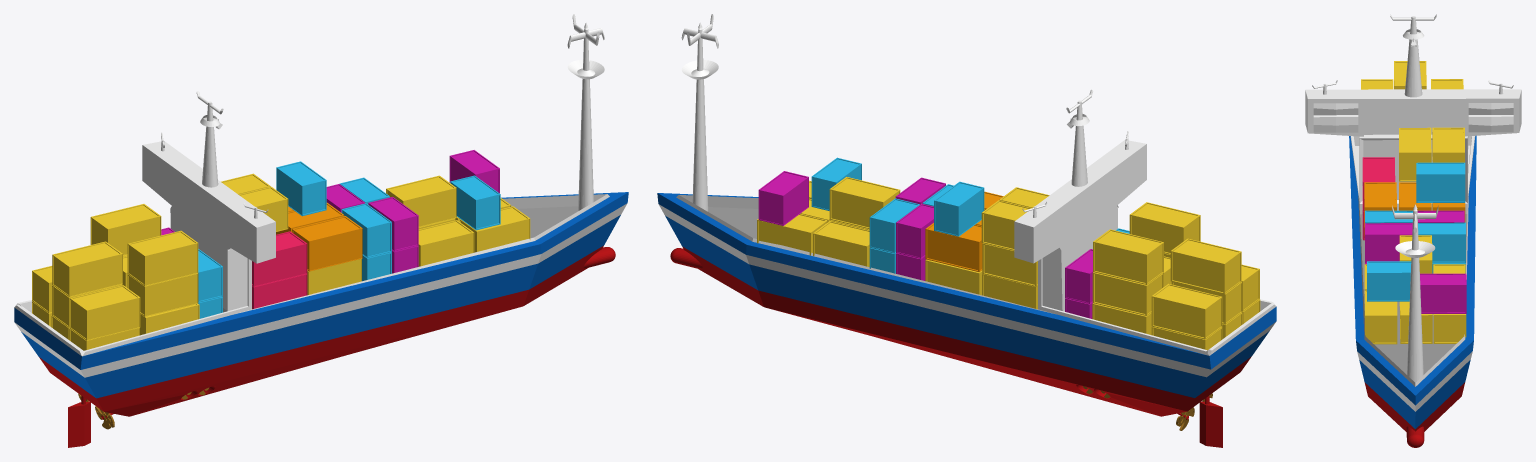
3 renders of one model, left to right at view 1: azimuth 30°, elevation 25°; view 2: azimuth 150°, elevation 25°; view 3: azimuth 270°, elevation 25°, orthographic. The views are drawn at different scales.
Visible parts, largest first — view 1: Buque De Carga; view 2: Buque De Carga; view 3: Buque De Carga.
Part boxes in pixels (x1,y1,x2,y2): Buque De Carga: [14, 14, 628, 447]; Buque De Carga: [657, 14, 1276, 447]; Buque De Carga: [1305, 14, 1521, 447].
Bounding box in the file's own units: 2.69 × 1.38 × 0.9066.
